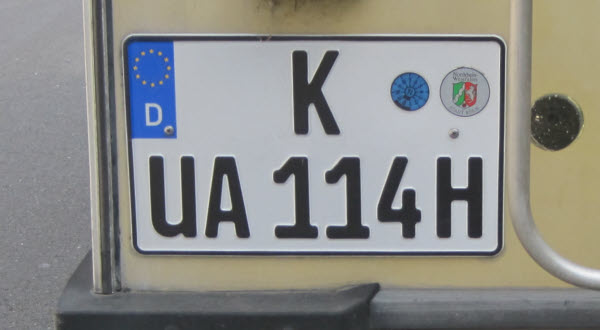license_plate: (122, 34, 505, 258)
